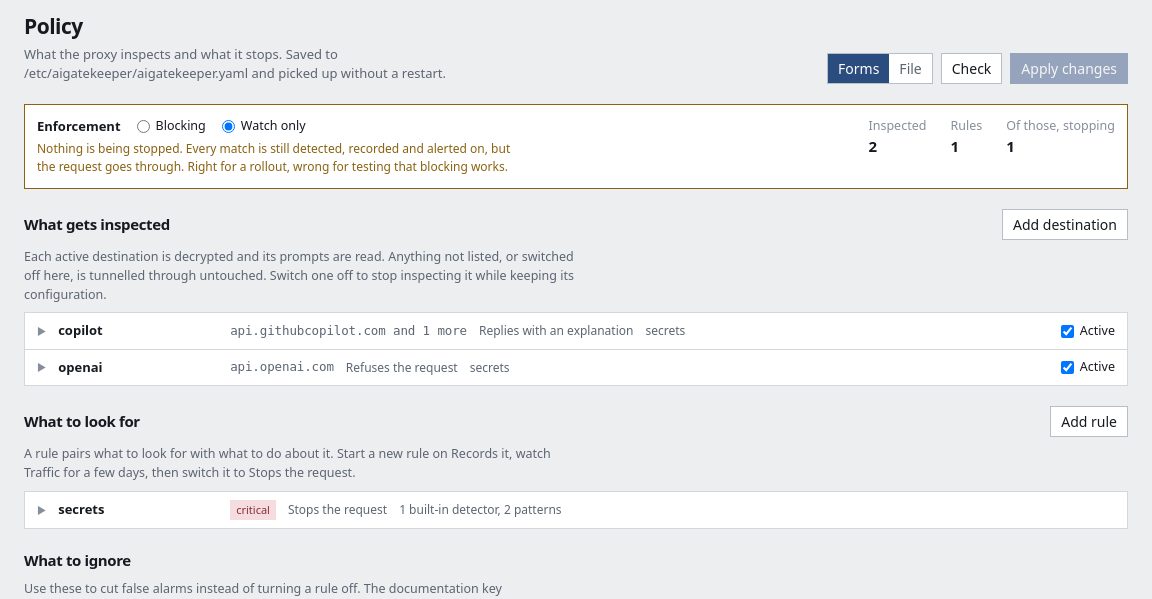
Scenario: Policy › shows existing patterns and can remove one
Expected: the element "What to look for" is shown, x1=24 y1=406 x2=1128 y2=529
Click the button "secrets": point(81, 509) x1=25 y1=492 x2=1115 y2=528
(page scrolled)
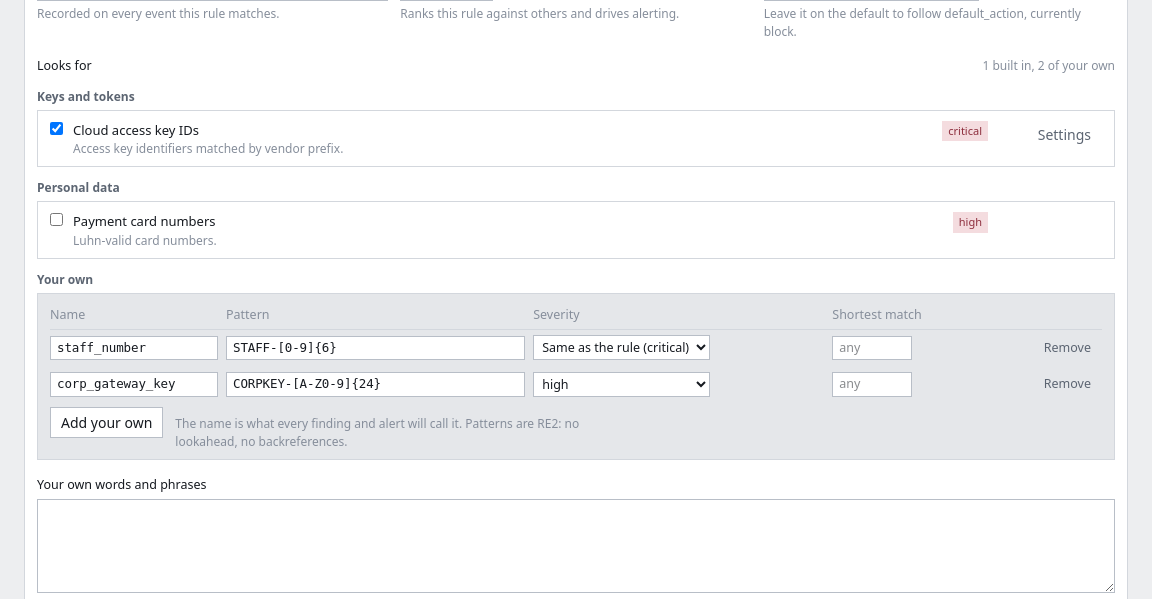
Expected: the field named "Pattern 1 name" holds "staff_number", x1=50 y1=336 x2=218 y2=360
Expected: the dropdown named "Pattern 1 severity" shows "Same as the rule (critical)", x1=533 y1=335 x2=710 y2=360
Expected: the dropdown named "Pattern 2 severity" shows "high", x1=533 y1=372 x2=710 y2=397
Click the 1st button "Remove": point(1067, 348) x1=1033 y1=334 x2=1102 y2=362
(page scrolled)
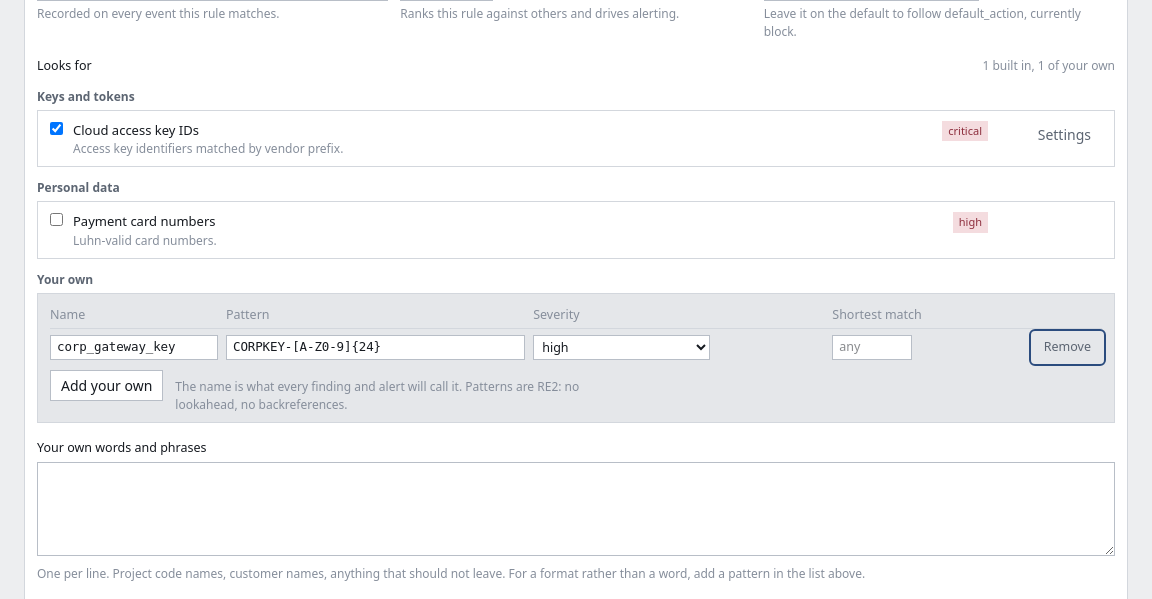
Expected: the field named "Pattern 1 name" holds "corp_gateway_key", x1=50 y1=335 x2=218 y2=360
